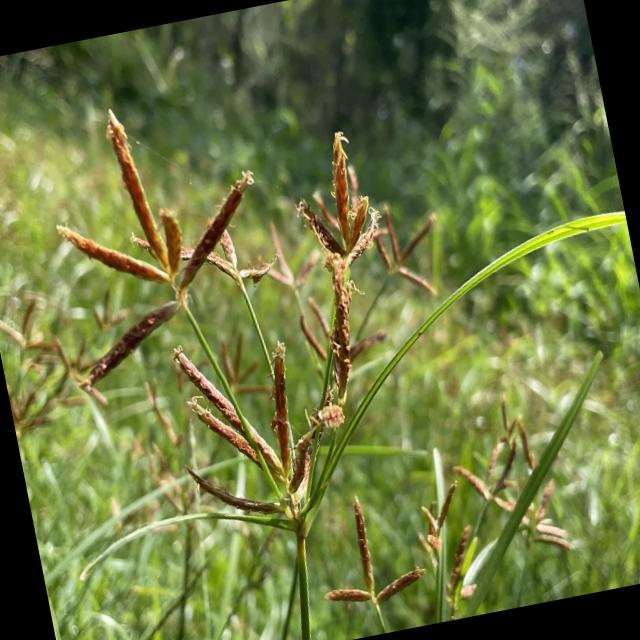cyperus: (14, 61, 414, 543), (248, 176, 456, 384), (402, 422, 593, 604), (0, 278, 135, 442), (311, 487, 432, 640)
